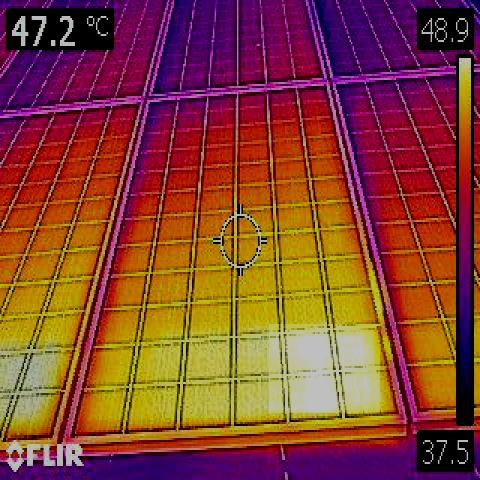fault: (269, 324, 380, 413), (0, 342, 61, 437)
